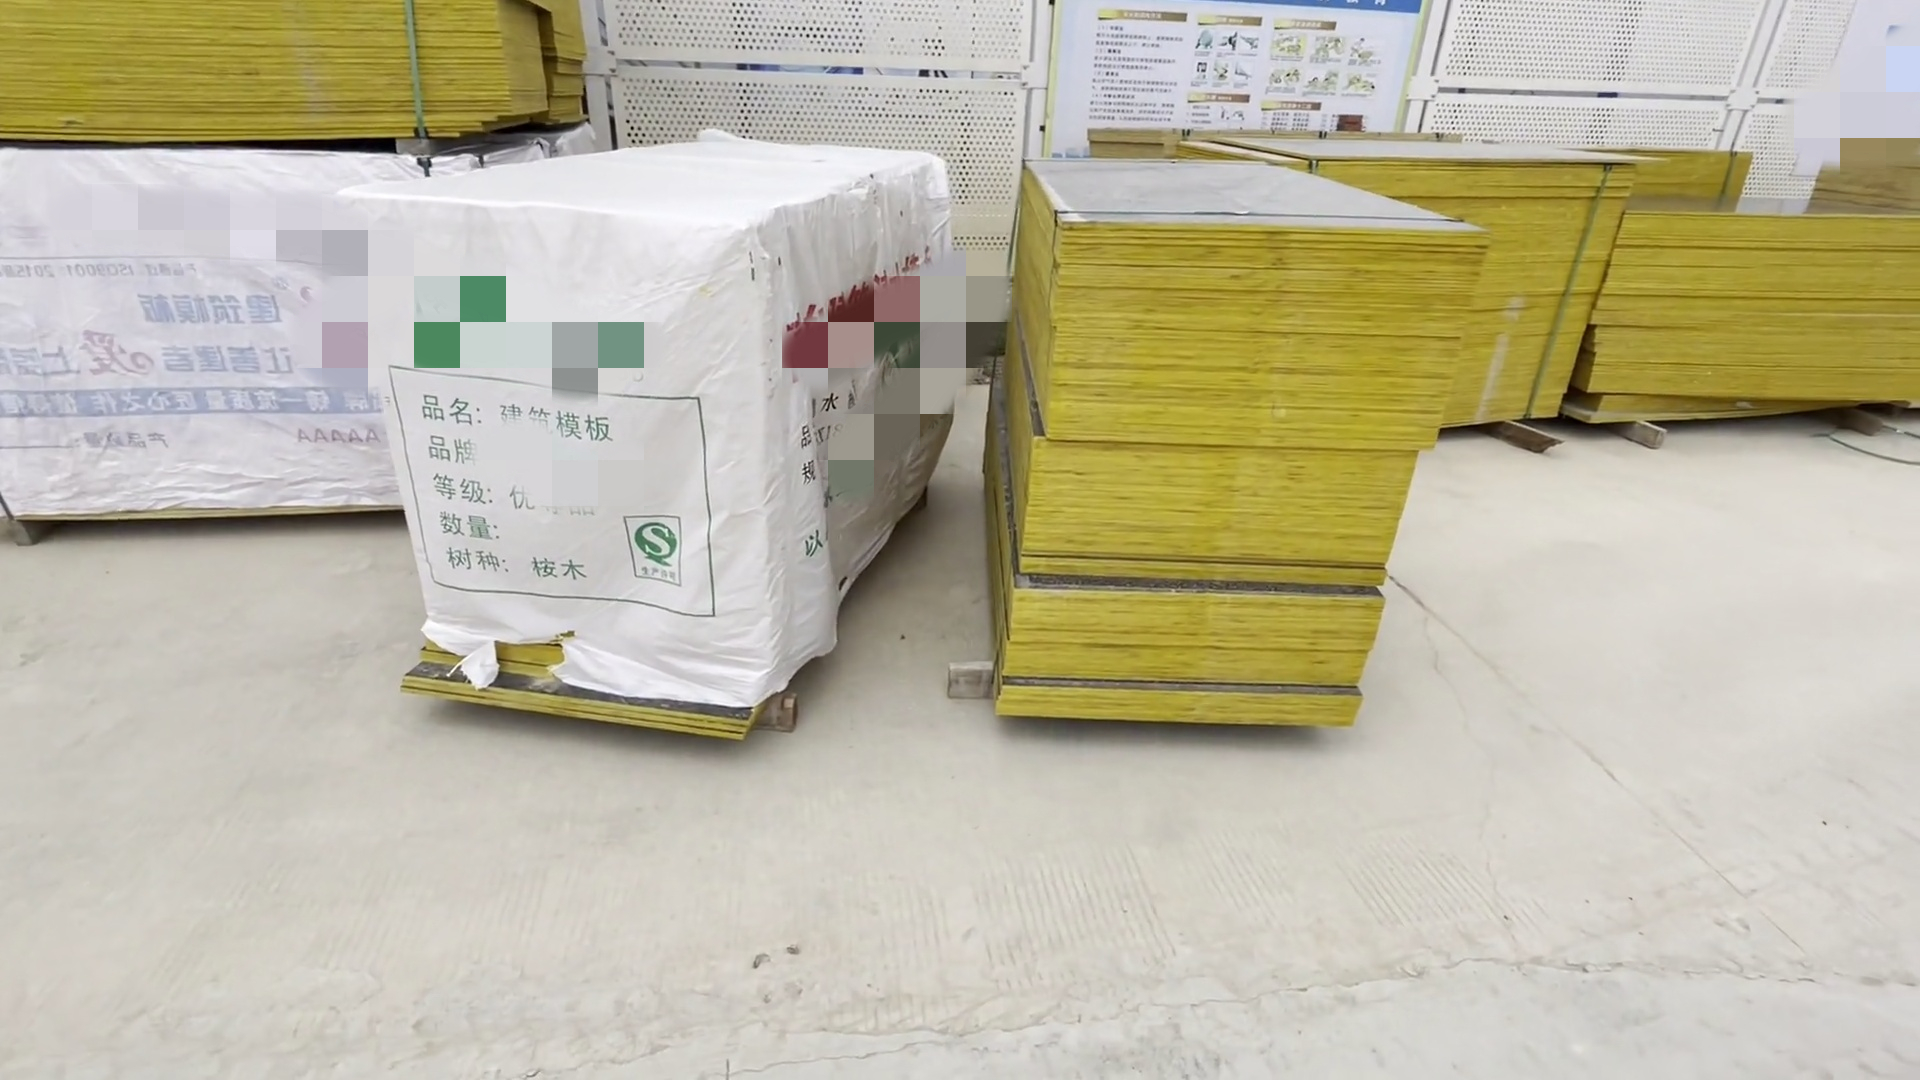board: (980, 156, 1456, 762), (1487, 144, 1920, 462), (1, 1, 553, 154)
